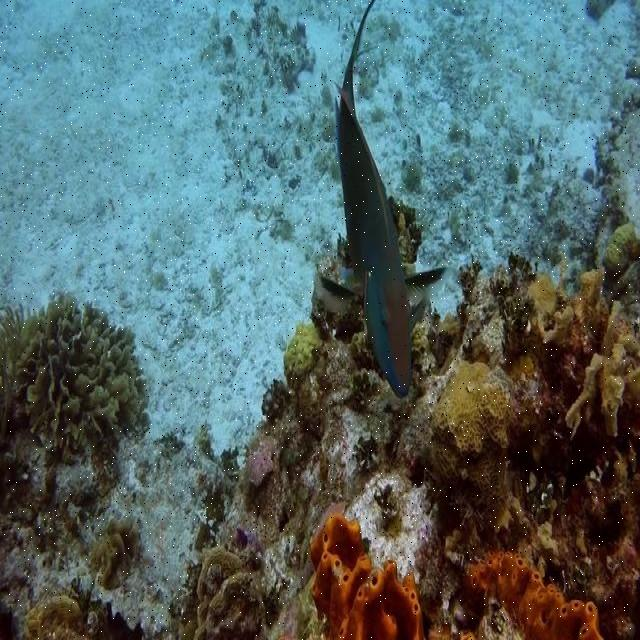fish: (312, 1, 449, 400)
reefs: (8, 298, 148, 456), (311, 512, 425, 639), (463, 548, 605, 638)
